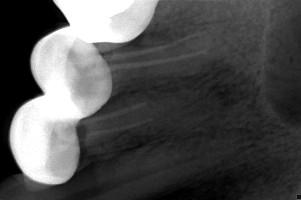Furcation Involvement: (151, 65, 252, 106)
